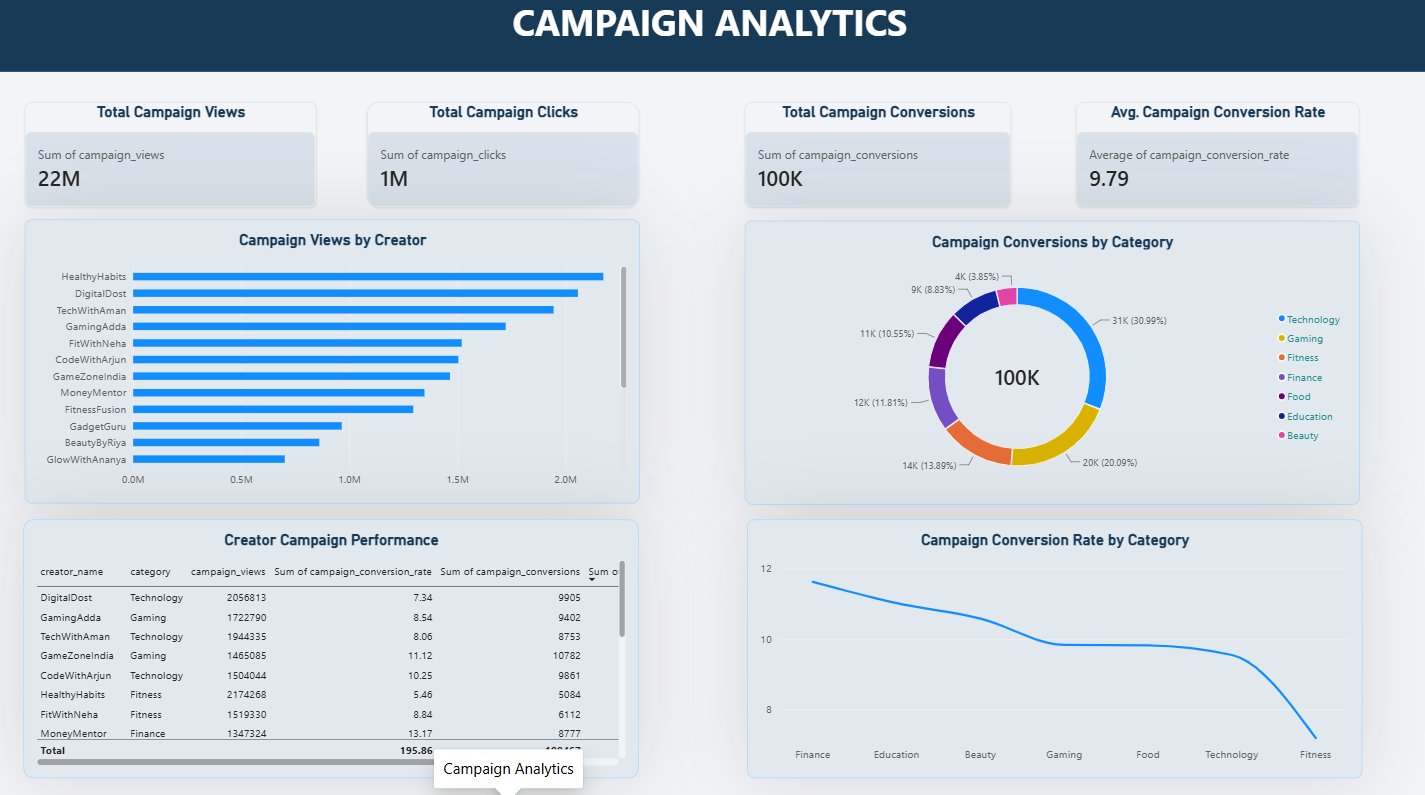

What the dashboard file says about the page in this screenshot:
{"tool":"powerbi","page":{"name":"Campaign Analytics","canvas":[1920,1080],"ordinal":2},"visuals":[{"type":"cardVisual","title":"Total Campaign Views","fields":{"Data":["Sum(final_creator_scores.campaign_views)"]},"box":[44.3,140.3,389.8,141],"z":0},{"type":"cardVisual","title":"Total Campaign Clicks","fields":{"Data":["Sum(final_creator_scores.campaign_clicks)"]},"box":[502.3,140.3,363.4,141],"z":1000},{"type":"cardVisual","title":"Total Campaign Conversions","fields":{"Data":["Sum(final_creator_scores.campaign_conversions)"]},"box":[1006.4,140.3,356.4,140.3],"z":2000},{"type":"cardVisual","title":"Avg. Campaign Conversion Rate","fields":{"Data":["Avg(final_creator_scores.campaign_conversion_rate)"]},"box":[1449.5,140.3,378.5,140.3],"z":3000},{"type":"clusteredBarChart","title":"Campaign Views by Creator","fields":{"Category":["final_creator_scores.creator_name"],"Y":["Sum(final_creator_scores.campaign_views)"]},"box":[44.3,297.3,821.5,378.8],"z":4000},{"type":"donutChart","title":"Campaign Conversions by Category","fields":{"Y":["Sum(final_creator_scores.campaign_conversions)"],"Category":["final_creator_scores.category"]},"box":[1006.4,299.1,821.5,378.8],"z":5000},{"type":"lineChart","title":"Campaign Conversion Rate by Category","fields":{"Category":["final_creator_scores.category"],"Y":["Avg(final_creator_scores.campaign_conversion_rate)"]},"box":[1010.9,698.1,821.5,345.8],"z":6000},{"type":"tableEx","title":"Creator Campaign Performance","fields":{"Values":["final_creator_scores.creator_name","final_creator_scores.category","final_creator_scores.campaign_views","Sum(final_creator_scores.campaign_conversion_rate)","Sum(final_creator_scores.campaign_conversions)","Sum(final_creator_scores.campaign_clicks)"]},"box":[44,698.1,821.5,345.8],"z":7000},{"type":"textbox","box":[837,99,340,150],"z":8000},{"type":"textbox","box":[0,0,1920.4,99.7],"z":9000}]}

Visuals, with their boxes on the page's 1920x1080 design canvas (x1, y1, x2, y2). These are canvas units, not pixel positions in the 1425x795 screenshot, which may show the page scaled, cropped or inside an application window:
"Total Campaign Views" cardVisual: 44/140/434/281
"Total Campaign Clicks" cardVisual: 502/140/866/281
"Total Campaign Conversions" cardVisual: 1006/140/1363/281
"Avg. Campaign Conversion Rate" cardVisual: 1450/140/1828/281
"Campaign Views by Creator" clusteredBarChart: 44/297/866/676
"Campaign Conversions by Category" donutChart: 1006/299/1828/678
"Campaign Conversion Rate by Category" lineChart: 1011/698/1832/1044
"Creator Campaign Performance" tableEx: 44/698/866/1044
textbox: 837/99/1177/249
textbox: 0/0/1920/100
